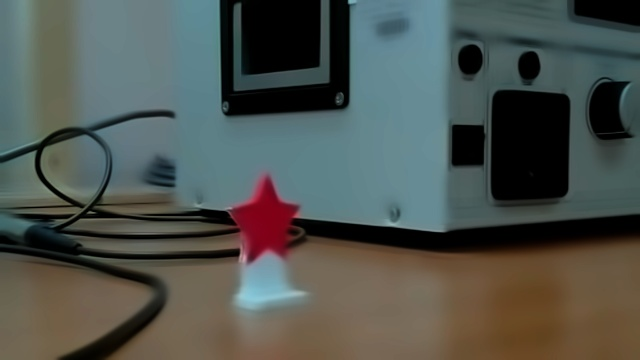star: (214, 172, 311, 319)
